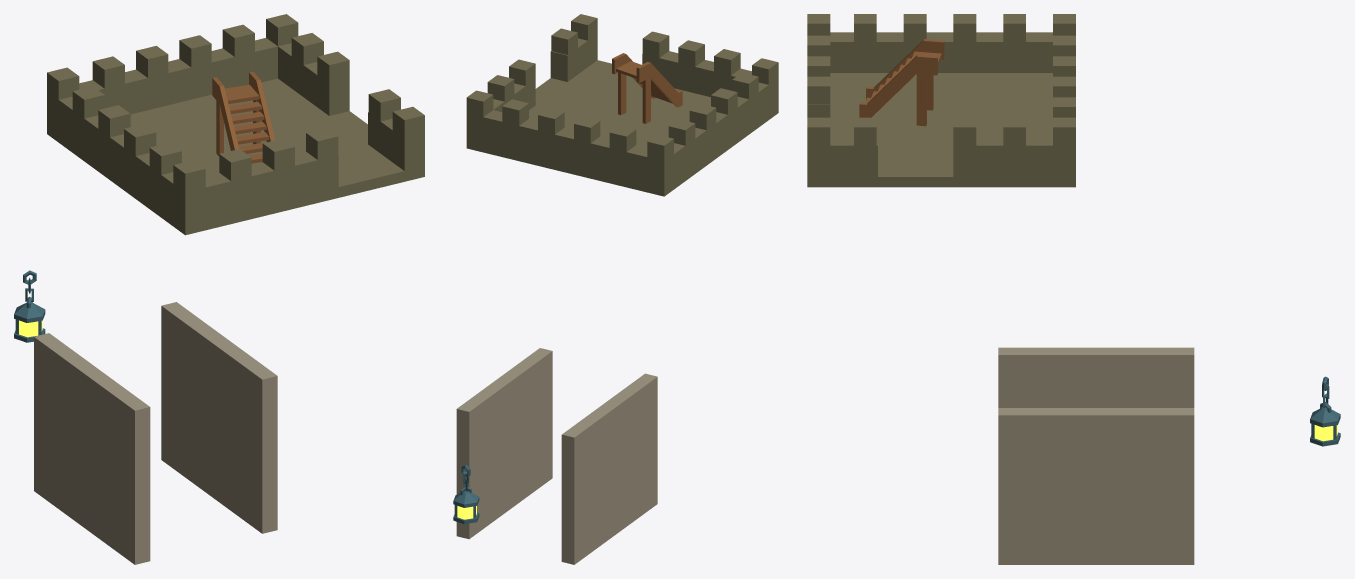
The picture shows the model from 3 angles, left to right: view 1: azimuth 30°, elevation 25°; view 2: azimuth 150°, elevation 25°; view 3: azimuth 270°, elevation 25°; orthographic projection. The views are drawn at different scales.
Visible parts, largest first — view 1: Box947_wall3_0, Object109_rock2_0, Object112_rock2_0, Plane359_brown_0, Box235_rock2_0, Box233_rock2_0, Box222_rock2_0, Box214_rock2_0, Box217_rock2_0, Box232_rock2_0, Box231_rock2_0, Box229_rock2_0 (+11 smaller); view 2: Box947_wall3_0, Object109_rock2_0, Object112_rock2_0, Plane359_brown_0, Box235_rock2_0, Box230_rock2_0, Box218_rock2_0, Box226_rock2_0, Box219_rock2_0, Box232_rock2_0, Box231_rock2_0, Box229_rock2_0 (+11 smaller); view 3: Box947_wall3_0, Object112_rock2_0, Object109_rock2_0, Plane359_brown_0, Cylinder1679_metal_0, Box214_rock2_0, Box230_rock2_0, Box222_rock2_0, Box223_rock2_0, Box226_rock2_0, Box220_rock2_0, Box218_rock2_0 (+1 smaller).
Part boxes in pixels (x1,y1,x2,y2): Box947_wall3_0: (34,302,277,564); Object109_rock2_0: (47,38,424,224); Object112_rock2_0: (47,78,424,235); Plane359_brown_0: (212,71,274,163); Box235_rock2_0: (92,56,124,88); Box233_rock2_0: (136,45,168,77); Box222_rock2_0: (317,51,349,83); Box214_rock2_0: (392,106,424,138); Box217_rock2_0: (173,160,205,192); Box232_rock2_0: (262,138,294,170); Box231_rock2_0: (179,35,211,67); Box229_rock2_0: (222,24,254,56); Box947_wall3_0: (456,348,657,564); Object109_rock2_0: (466,34,778,187); Object112_rock2_0: (466,60,778,196); Plane359_brown_0: (612,53,682,123); Box235_rock2_0: (609,125,636,151); Box230_rock2_0: (642,31,669,57); Box218_rock2_0: (466,90,493,116); Box226_rock2_0: (551,28,577,54); Box219_rock2_0: (647,134,673,161); Box232_rock2_0: (678,40,704,66); Box231_rock2_0: (538,108,564,134); Box229_rock2_0: (502,99,528,125); Box947_wall3_0: (998,347,1194,564); Object112_rock2_0: (807,73,1075,187); Object109_rock2_0: (807,32,1075,176); Plane359_brown_0: (859,39,944,126); Cylinder1679_metal_0: (1310,407,1340,446); Box214_rock2_0: (807,117,830,145); Box230_rock2_0: (807,76,830,104); Box222_rock2_0: (953,117,976,145); Box223_rock2_0: (953,14,976,41); Box226_rock2_0: (854,117,876,145); Box220_rock2_0: (1003,117,1025,145); Box218_rock2_0: (1053,117,1075,145).
Size of the model in its own units: 469 by 925 by 930.
